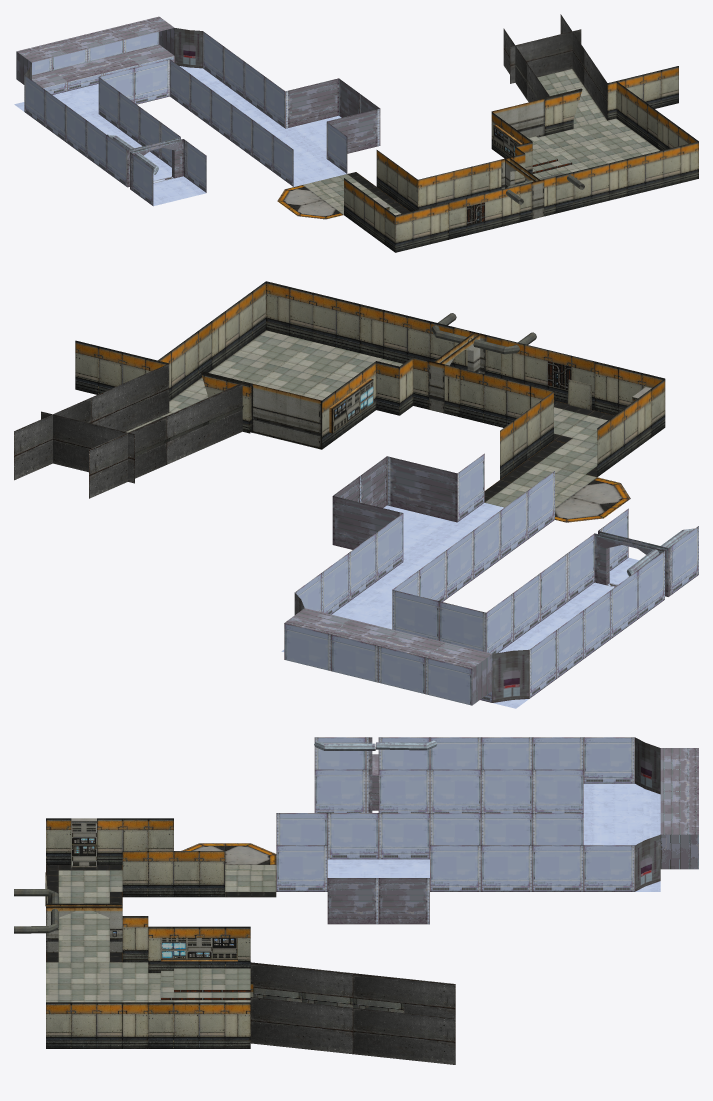
Rendered from hoobase1.dae.
3 views of the same model, one above another, from view 1: azimuth 30°, elevation 25°; view 2: azimuth 150°, elevation 25°; view 3: azimuth 270°, elevation 25° (orthographic). The views are drawn at different scales.
Visible parts, largest first — view 1: hoobase-1-col; view 2: hoobase-1-col; view 3: hoobase-1-col.
Part boxes in pixels (bbox=[...]): hoobase-1-col: bbox=[14, 14, 698, 252]; hoobase-1-col: bbox=[14, 281, 698, 708]; hoobase-1-col: bbox=[14, 737, 698, 1064].
Size of the model in its own units: 56 by 53.49 by 4.
